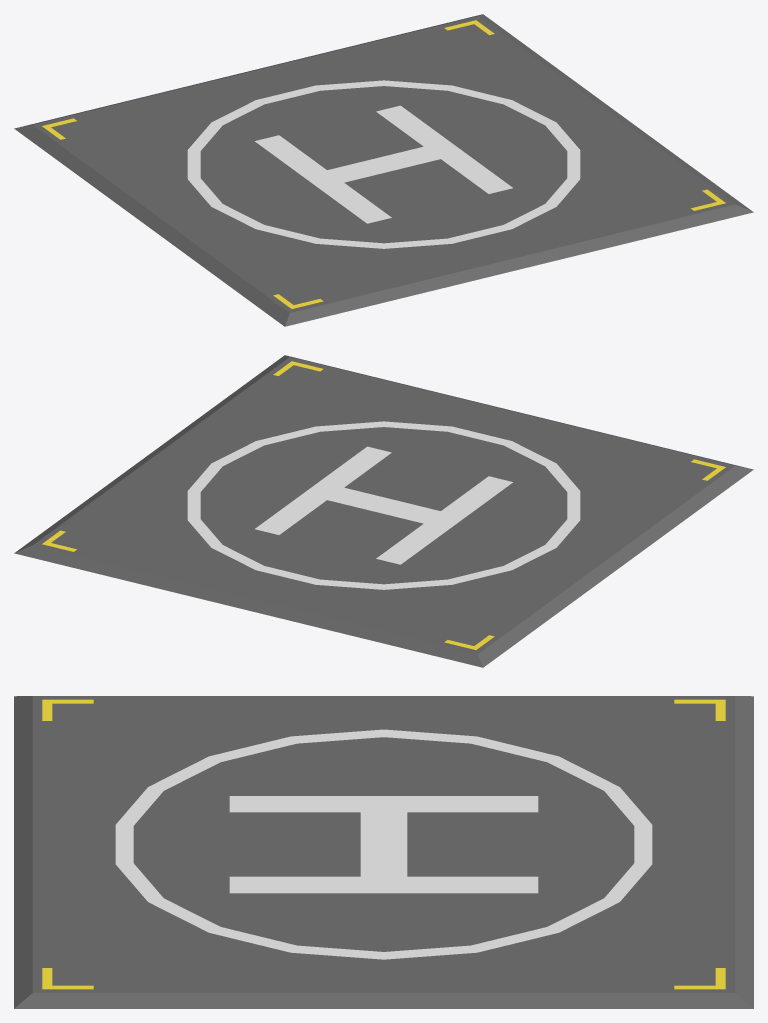
The model's file is Attack_heli_pack.FBX.
3 renders of one model, top to bottom at view 1: azimuth 30°, elevation 25°; view 2: azimuth 150°, elevation 25°; view 3: azimuth 270°, elevation 25°, orthographic. The views are drawn at different scales.
Visible parts, largest first — view 1: attack_heli_pack; view 2: attack_heli_pack; view 3: attack_heli_pack.
Part boxes in pixels (bbox=[...]): attack_heli_pack: bbox=[14, 14, 753, 326]; attack_heli_pack: bbox=[14, 355, 753, 667]; attack_heli_pack: bbox=[14, 696, 753, 1008].
Size of the model in its own units: 1685 by 20 by 1685.
Materials: 1 (1 with a texture image).
